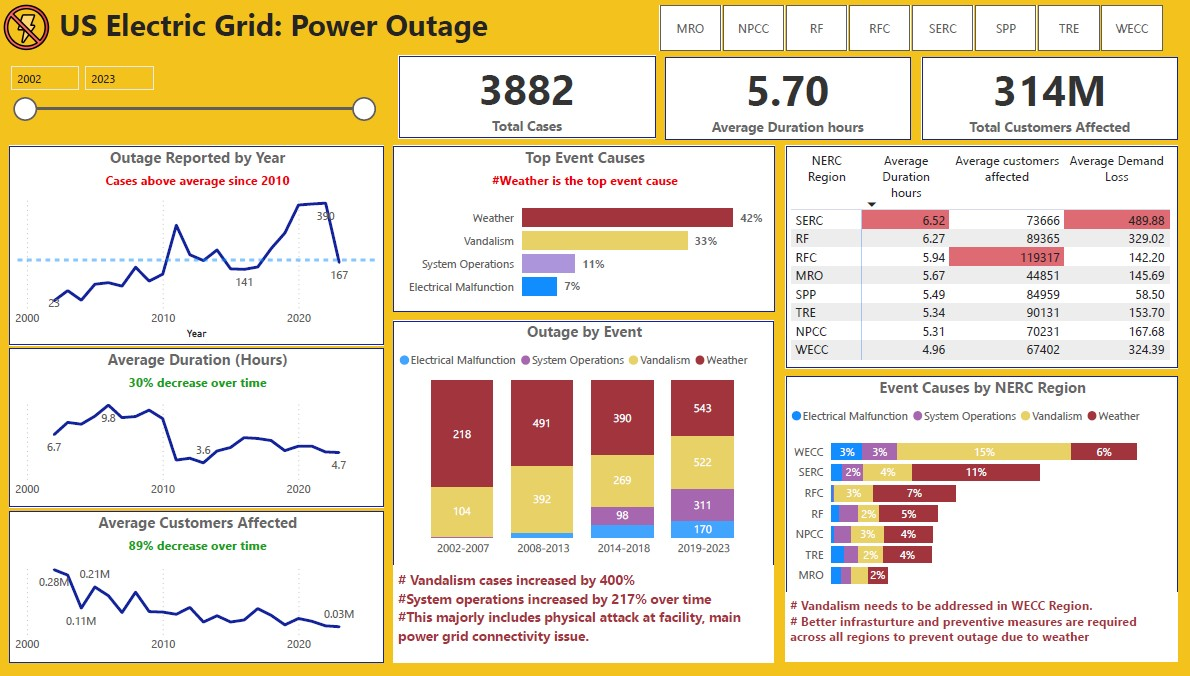

The page's visual inventory and layout, read from the dashboard file:
{"tool":"powerbi","page":{"name":"Page 1","canvas":[1280,720],"ordinal":0},"visuals":[{"type":"lineChart","title":"Outage Reported by Year","fields":{"Category":["Date.Year"],"Y":["Measure.Total Outrage"]},"box":[10.9,159.3,404.2,214.7],"z":0},{"type":"slicer","fields":{"Values":["Date.Year"]},"box":[0,62.7,415,88.1],"z":1000},{"type":"textbox","box":[60.4,0,822,61.7],"z":2000},{"type":"clusteredBarChart","title":"Top Event Causes","fields":{"Category":["Updated_2002-2023.Event Type"],"Y":["Measure.Outrage %"]},"box":[425.7,158.6,411.4,178.6],"z":3000},{"type":"pivotTable","fields":{"Rows":["Updated_2002-2023.NERC Region"],"Values":["Measure.Average Duration hours","Measure.Average customers affected","Measure.Average Demand Loss"]},"box":[848.1,159.3,423.5,240.1],"z":4000},{"type":"hundredPercentStackedColumnChart","title":"Outage by Event","fields":{"Series":["Updated_2002-2023.Event Type"],"Category":["Date.Grouped Years"],"Y":["Measure.Total Outage"]},"box":[425.8,347.5,410.2,265.4],"z":4000,"group":"g4"},{"type":"barChart","title":"Event Causes by NERC Region","fields":{"Category":["Updated_2002-2023.NERC Region"],"Series":["Updated_2002-2023.Event Type"],"Y":["Measure.Outage %"]},"box":[848.1,407.8,423.5,238.7],"z":4000,"group":"g3"},{"type":"slicer","fields":{"Values":["Updated_2002-2023.NERC Region"]},"box":[687.7,0,592.4,62.7],"z":5000},{"type":"image","box":[0,0,60.4,61.7],"z":6000},{"type":"card","fields":{"Values":["Measure.Total Outrage"]},"box":[431.9,61.5,277.5,89.3],"z":7000},{"type":"lineChart","title":"Average Duration (Hours)","fields":{"Category":["Date.Year"],"Y":["Measure.Average Duration hours"]},"box":[10.9,377.6,404.2,171.3],"z":8000},{"type":"lineChart","title":"Average Customers Affected","fields":{"Category":["Date.Year"],"Y":["Measure.Average customers affected"]},"box":[10.9,552.5,404.2,162.9],"z":9000},{"type":"card","fields":{"Values":["Measure.Average Duration hours"]},"box":[719,62.7,265.4,89.3],"z":10000},{"type":"card","fields":{"Values":["Measure.Total Customers Affected"]},"box":[995.3,62.7,276.3,89.3],"z":11000},{"type":"group","id":"g1","title":"Group 1","box":[425.8,347.5,410.2,368],"z":13000},{"type":"group","id":"g2","title":"Group 3","box":[848.1,407.8,423.5,307.6],"z":14000},{"type":"textbox","box":[425.8,611.7,410.2,103.8],"z":14000,"group":"g4"},{"type":"textbox","box":[848.1,640.4,423.5,75.1],"z":14000,"group":"g3"},{"type":"group","id":"g3","title":"Group 4","box":[848.1,407.8,423.5,307.6],"z":15002,"group":"g2"},{"type":"group","id":"g4","title":"Group 2","box":[425.8,347.5,410.2,368],"z":15003,"group":"g1"}]}

Visuals, with their boxes in screenshot pixels (x1, y1, x2, y2), scaled from the page's 1280x720 canvas onto the 1190x676 screenshot:
"Outage Reported by Year" lineChart: <region>10, 150, 386, 351</region>
slicer - Date.Year: <region>0, 59, 386, 142</region>
textbox: <region>56, 0, 820, 58</region>
"Top Event Causes" clusteredBarChart: <region>396, 149, 778, 317</region>
pivotTable - Updated_2002-2023.NERC Region x Measure.Average Duration hours: <region>788, 150, 1182, 375</region>
"Outage by Event" hundredPercentStackedColumnChart: <region>396, 326, 777, 575</region>
"Event Causes by NERC Region" barChart: <region>788, 383, 1182, 607</region>
slicer - Updated_2002-2023.NERC Region: <region>639, 0, 1189, 59</region>
image: <region>0, 0, 56, 58</region>
card - Measure.Total Outrage: <region>402, 58, 660, 142</region>
"Average Duration (Hours)" lineChart: <region>10, 355, 386, 515</region>
"Average Customers Affected" lineChart: <region>10, 519, 386, 672</region>
card - Measure.Average Duration hours: <region>668, 59, 915, 143</region>
card - Measure.Total Customers Affected: <region>925, 59, 1182, 143</region>
"Group 1" group: <region>396, 326, 777, 672</region>
"Group 3" group: <region>788, 383, 1182, 672</region>
textbox: <region>396, 574, 777, 672</region>
textbox: <region>788, 601, 1182, 672</region>
"Group 4" group: <region>788, 383, 1182, 672</region>
"Group 2" group: <region>396, 326, 777, 672</region>
